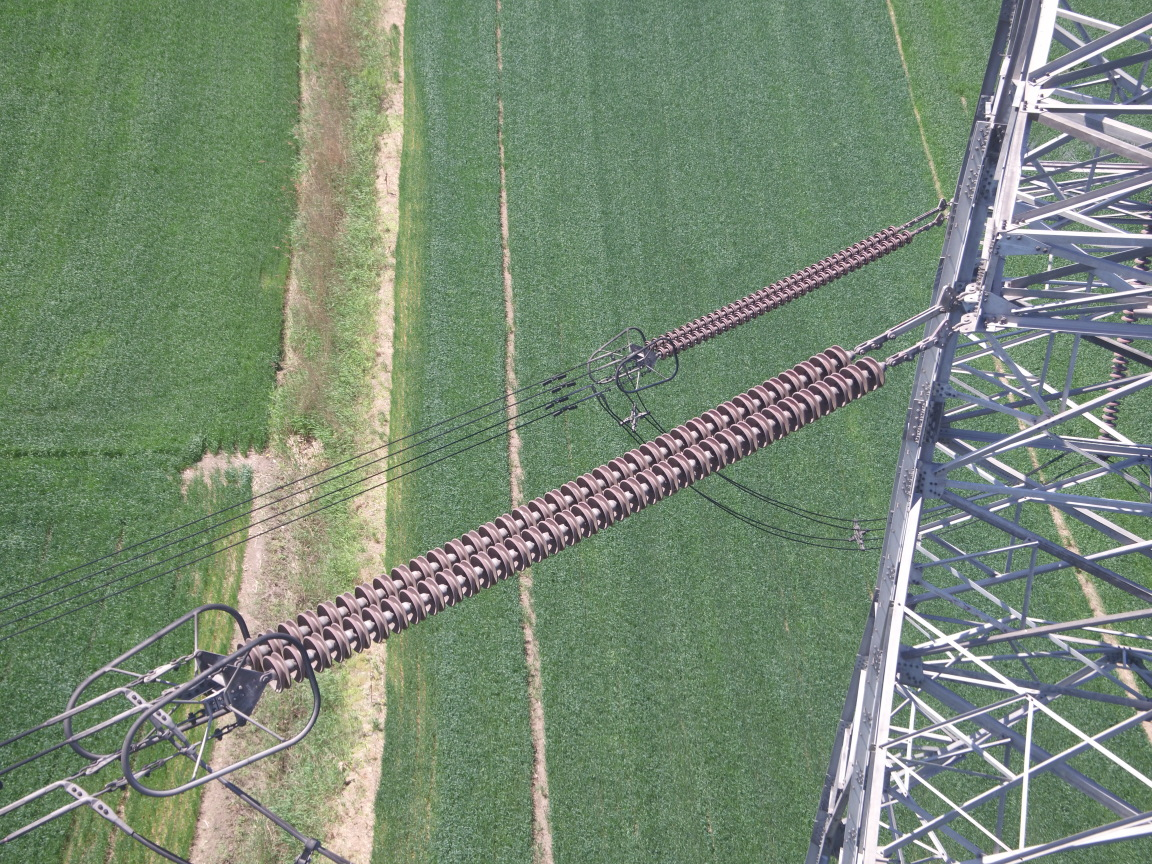insulator: (227, 331, 927, 697), (644, 213, 931, 360)
